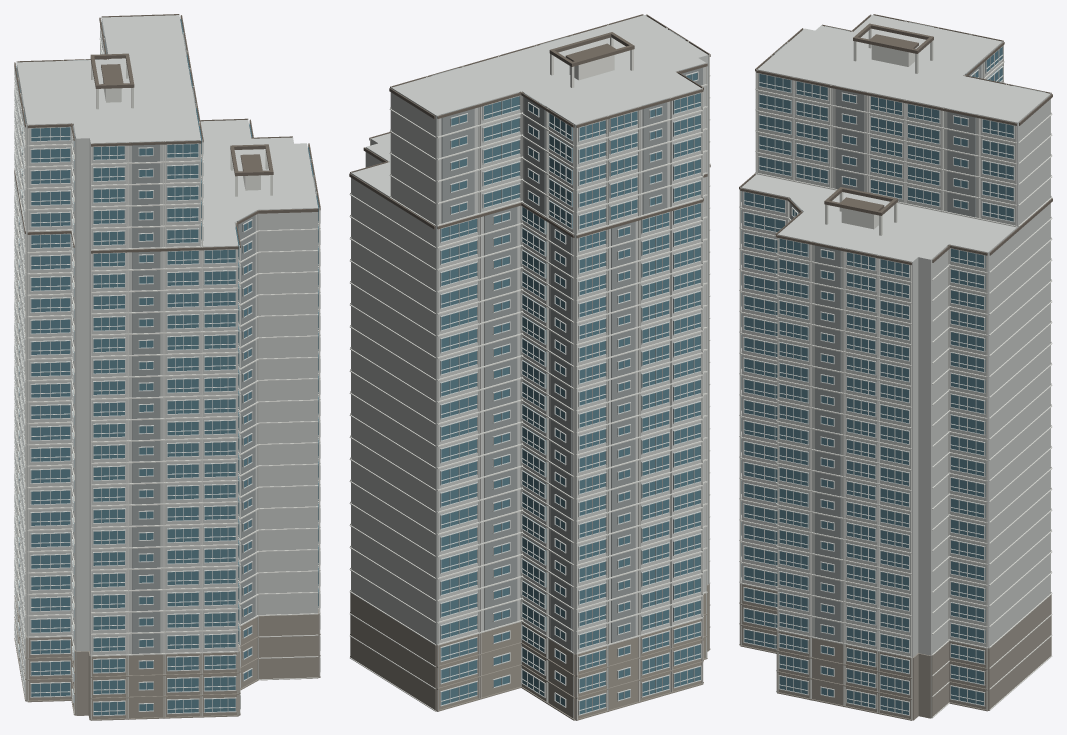
Rendered from bespoke-banpo-xi-113.glb.
3 views of the same model, side by side, from view 1: azimuth 30°, elevation 25°; view 2: azimuth 150°, elevation 25°; view 3: azimuth 270°, elevation 25° (orthographic). The views are drawn at different scales.
Parts seen in each view (by area): view 1: BX113_editable_BX113_pale_silver_limestone, BX113_editable_BX113_blue_grey_broad_glazing, BX113_editable_BX113_white_window_frames, BX113_editable_BX113_ivory_course_bands, BX113_editable_BX113_grey_service_core, BX113_editable_BX113_warm_ground_stone, BX113_editable_BX113_dark_coping; view 2: BX113_editable_BX113_pale_silver_limestone, BX113_editable_BX113_blue_grey_broad_glazing, BX113_editable_BX113_white_window_frames, BX113_editable_BX113_ivory_course_bands, BX113_editable_BX113_grey_service_core, BX113_editable_BX113_warm_ground_stone, BX113_editable_BX113_dark_coping; view 3: BX113_editable_BX113_pale_silver_limestone, BX113_editable_BX113_blue_grey_broad_glazing, BX113_editable_BX113_white_window_frames, BX113_editable_BX113_ivory_course_bands, BX113_editable_BX113_grey_service_core, BX113_editable_BX113_warm_ground_stone, BX113_editable_BX113_dark_coping.
Boxes of the visible parts, x1,y1,x2,y2 form: BX113_editable_BX113_pale_silver_limestone: (16, 15, 318, 714); BX113_editable_BX113_blue_grey_broad_glazing: (16, 19, 319, 715); BX113_editable_BX113_white_window_frames: (14, 18, 320, 716); BX113_editable_BX113_ivory_course_bands: (14, 15, 320, 720); BX113_editable_BX113_grey_service_core: (18, 20, 316, 653); BX113_editable_BX113_warm_ground_stone: (14, 595, 320, 720); BX113_editable_BX113_dark_coping: (14, 14, 320, 253); BX113_editable_BX113_pale_silver_limestone: (351, 15, 708, 719); BX113_editable_BX113_blue_grey_broad_glazing: (440, 73, 700, 714); BX113_editable_BX113_white_window_frames: (440, 71, 701, 715); BX113_editable_BX113_ivory_course_bands: (349, 14, 710, 720); BX113_editable_BX113_grey_service_core: (431, 29, 702, 651); BX113_editable_BX113_warm_ground_stone: (350, 584, 710, 720); BX113_editable_BX113_dark_coping: (349, 14, 710, 238); BX113_editable_BX113_pale_silver_limestone: (741, 15, 1050, 719); BX113_editable_BX113_blue_grey_broad_glazing: (741, 47, 1013, 714); BX113_editable_BX113_white_window_frames: (741, 45, 1014, 715); BX113_editable_BX113_ivory_course_bands: (739, 14, 1052, 719); BX113_editable_BX113_grey_service_core: (774, 22, 1045, 642); BX113_editable_BX113_warm_ground_stone: (739, 584, 1051, 720); BX113_editable_BX113_dark_coping: (739, 14, 1052, 264).
Size of the model in its own units: 40.1 by 75.7 by 36.76.
